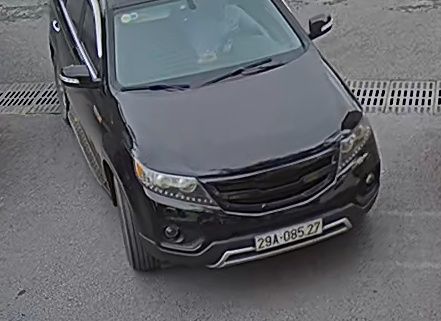vehicle plate: (250, 215, 328, 250)
